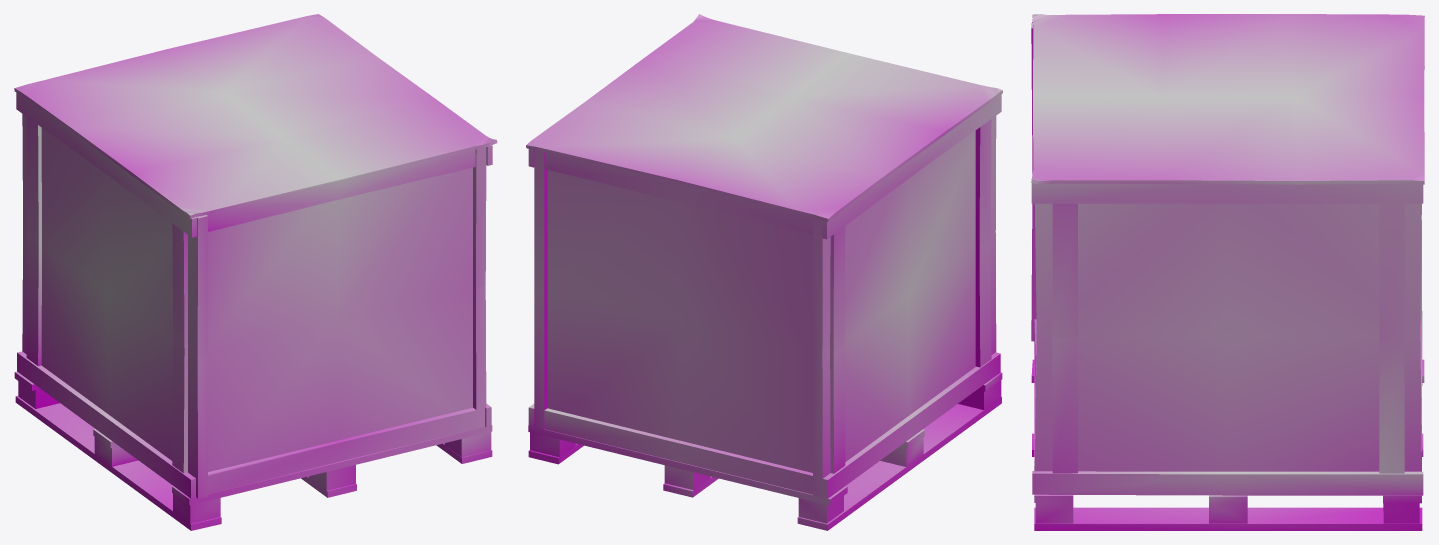
Rendered from SM_CargoBox_01.FBX.
3 renders of one model, left to right at view 1: azimuth 30°, elevation 25°; view 2: azimuth 150°, elevation 25°; view 3: azimuth 270°, elevation 25°, orthographic. The views are drawn at different scales.
Visible parts, largest first — view 1: SM_CargoBox_01; view 2: SM_CargoBox_01; view 3: SM_CargoBox_01.
Part boxes in pixels (<box>): SM_CargoBox_01: <box>14,14,497,530</box>; SM_CargoBox_01: <box>526,14,1002,530</box>; SM_CargoBox_01: <box>1031,14,1424,530</box>.
Size of what is drawn, in the model's own units: 102 by 102 by 101.
